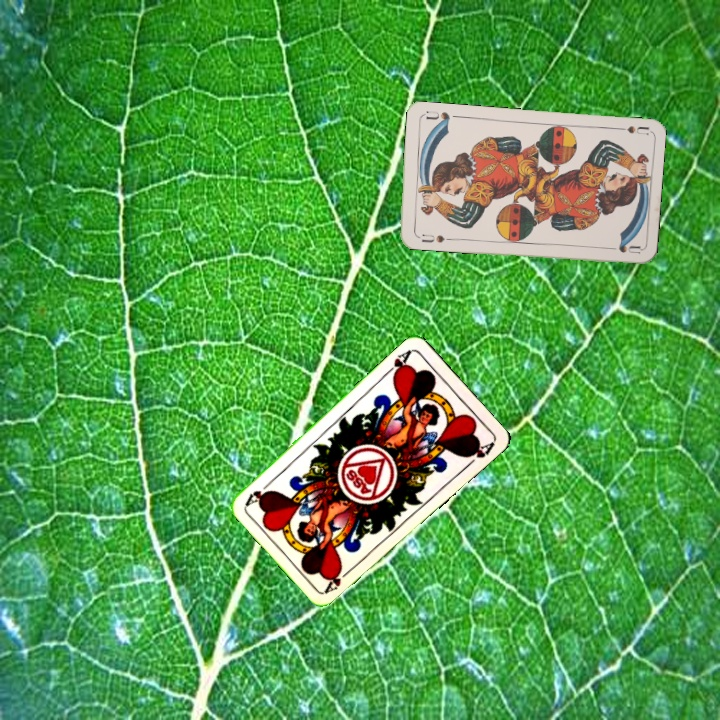HA: (381, 345, 414, 381), (321, 563, 355, 596)
SU: (609, 122, 650, 137), (418, 230, 453, 245)
